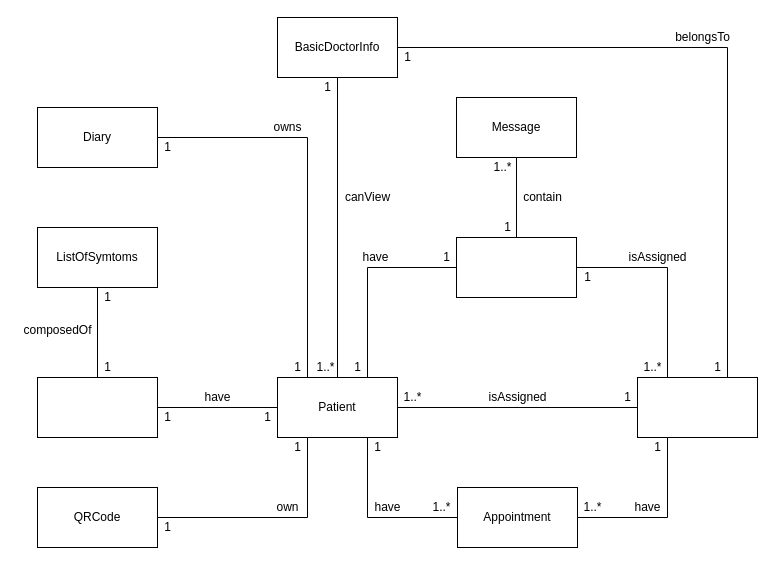
Some shapes in this 775 by 565 pixel diagram are drawn without their labels. The shapes that lost their labels are listed below. From the top down, each one's centre as x and y in pixels, then its label:
the point at 516,267: Inbox
the point at 97,407: ProfileDetails
the point at 697,407: Doctor
